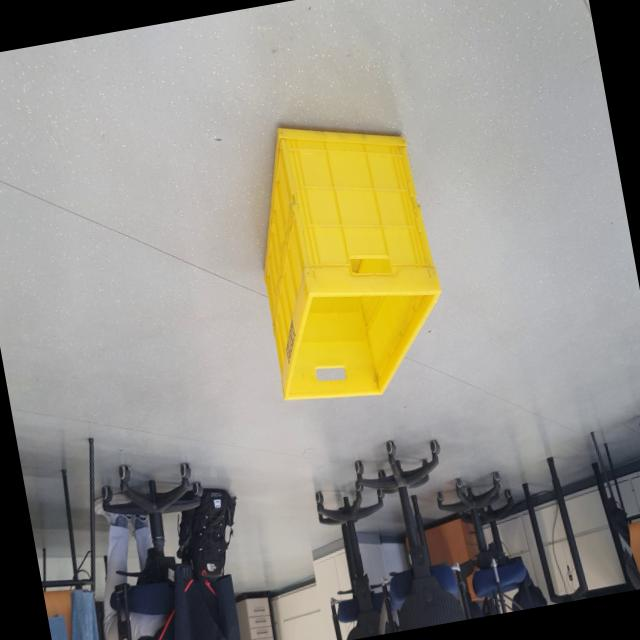box: (228, 72, 461, 430)
